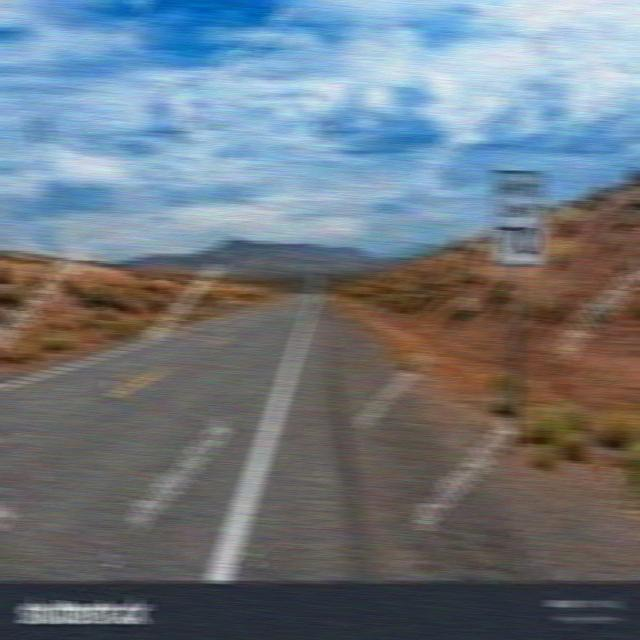speedLimit70: (489, 167, 547, 260)
